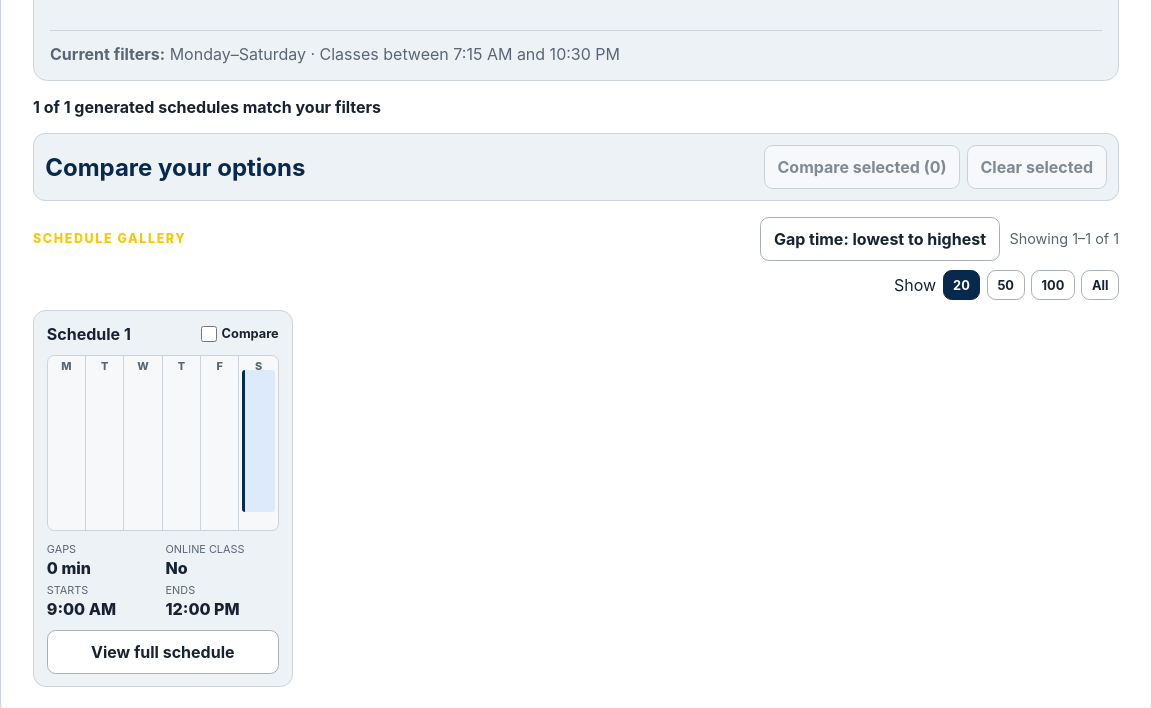
Test: ScheduleResults › does not add Sunday to the full timetable for a Saturday schedule
(page scrolled)
What coordinates should you click on to do the following:
click the button "View full schedule"
I would click on:
 (163, 652)
Its box is [47,630,279,674].
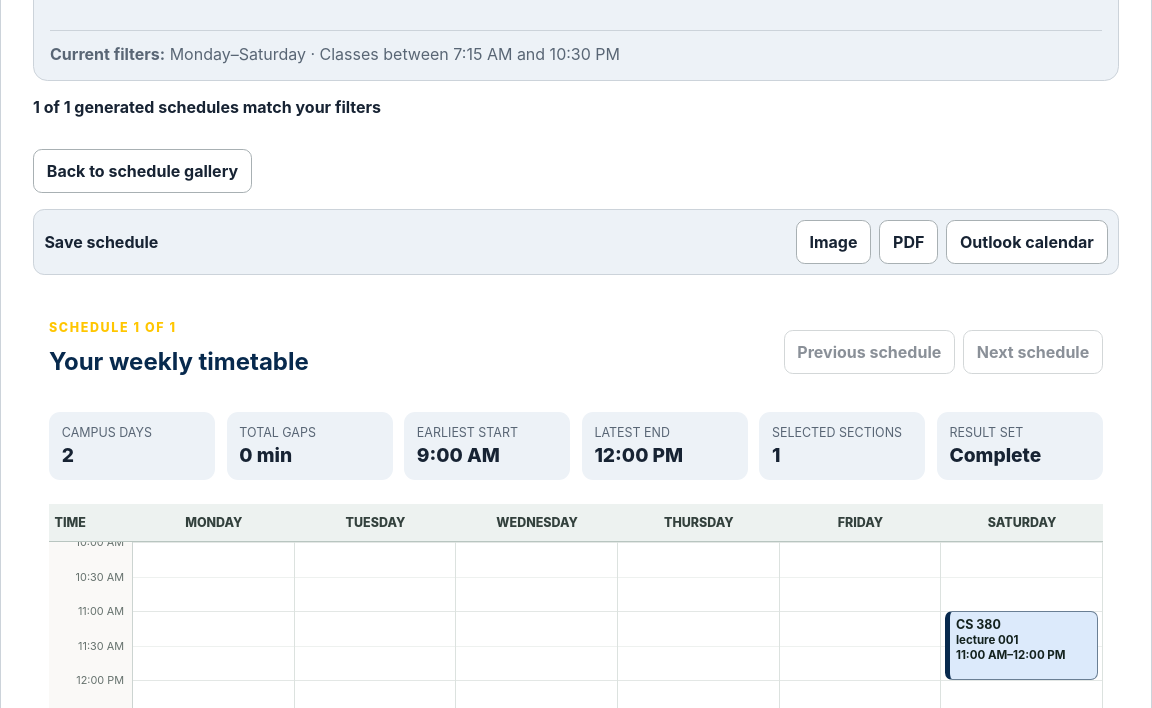
Expected: the text "Saturday" is shown, [941,504,1103,542]
